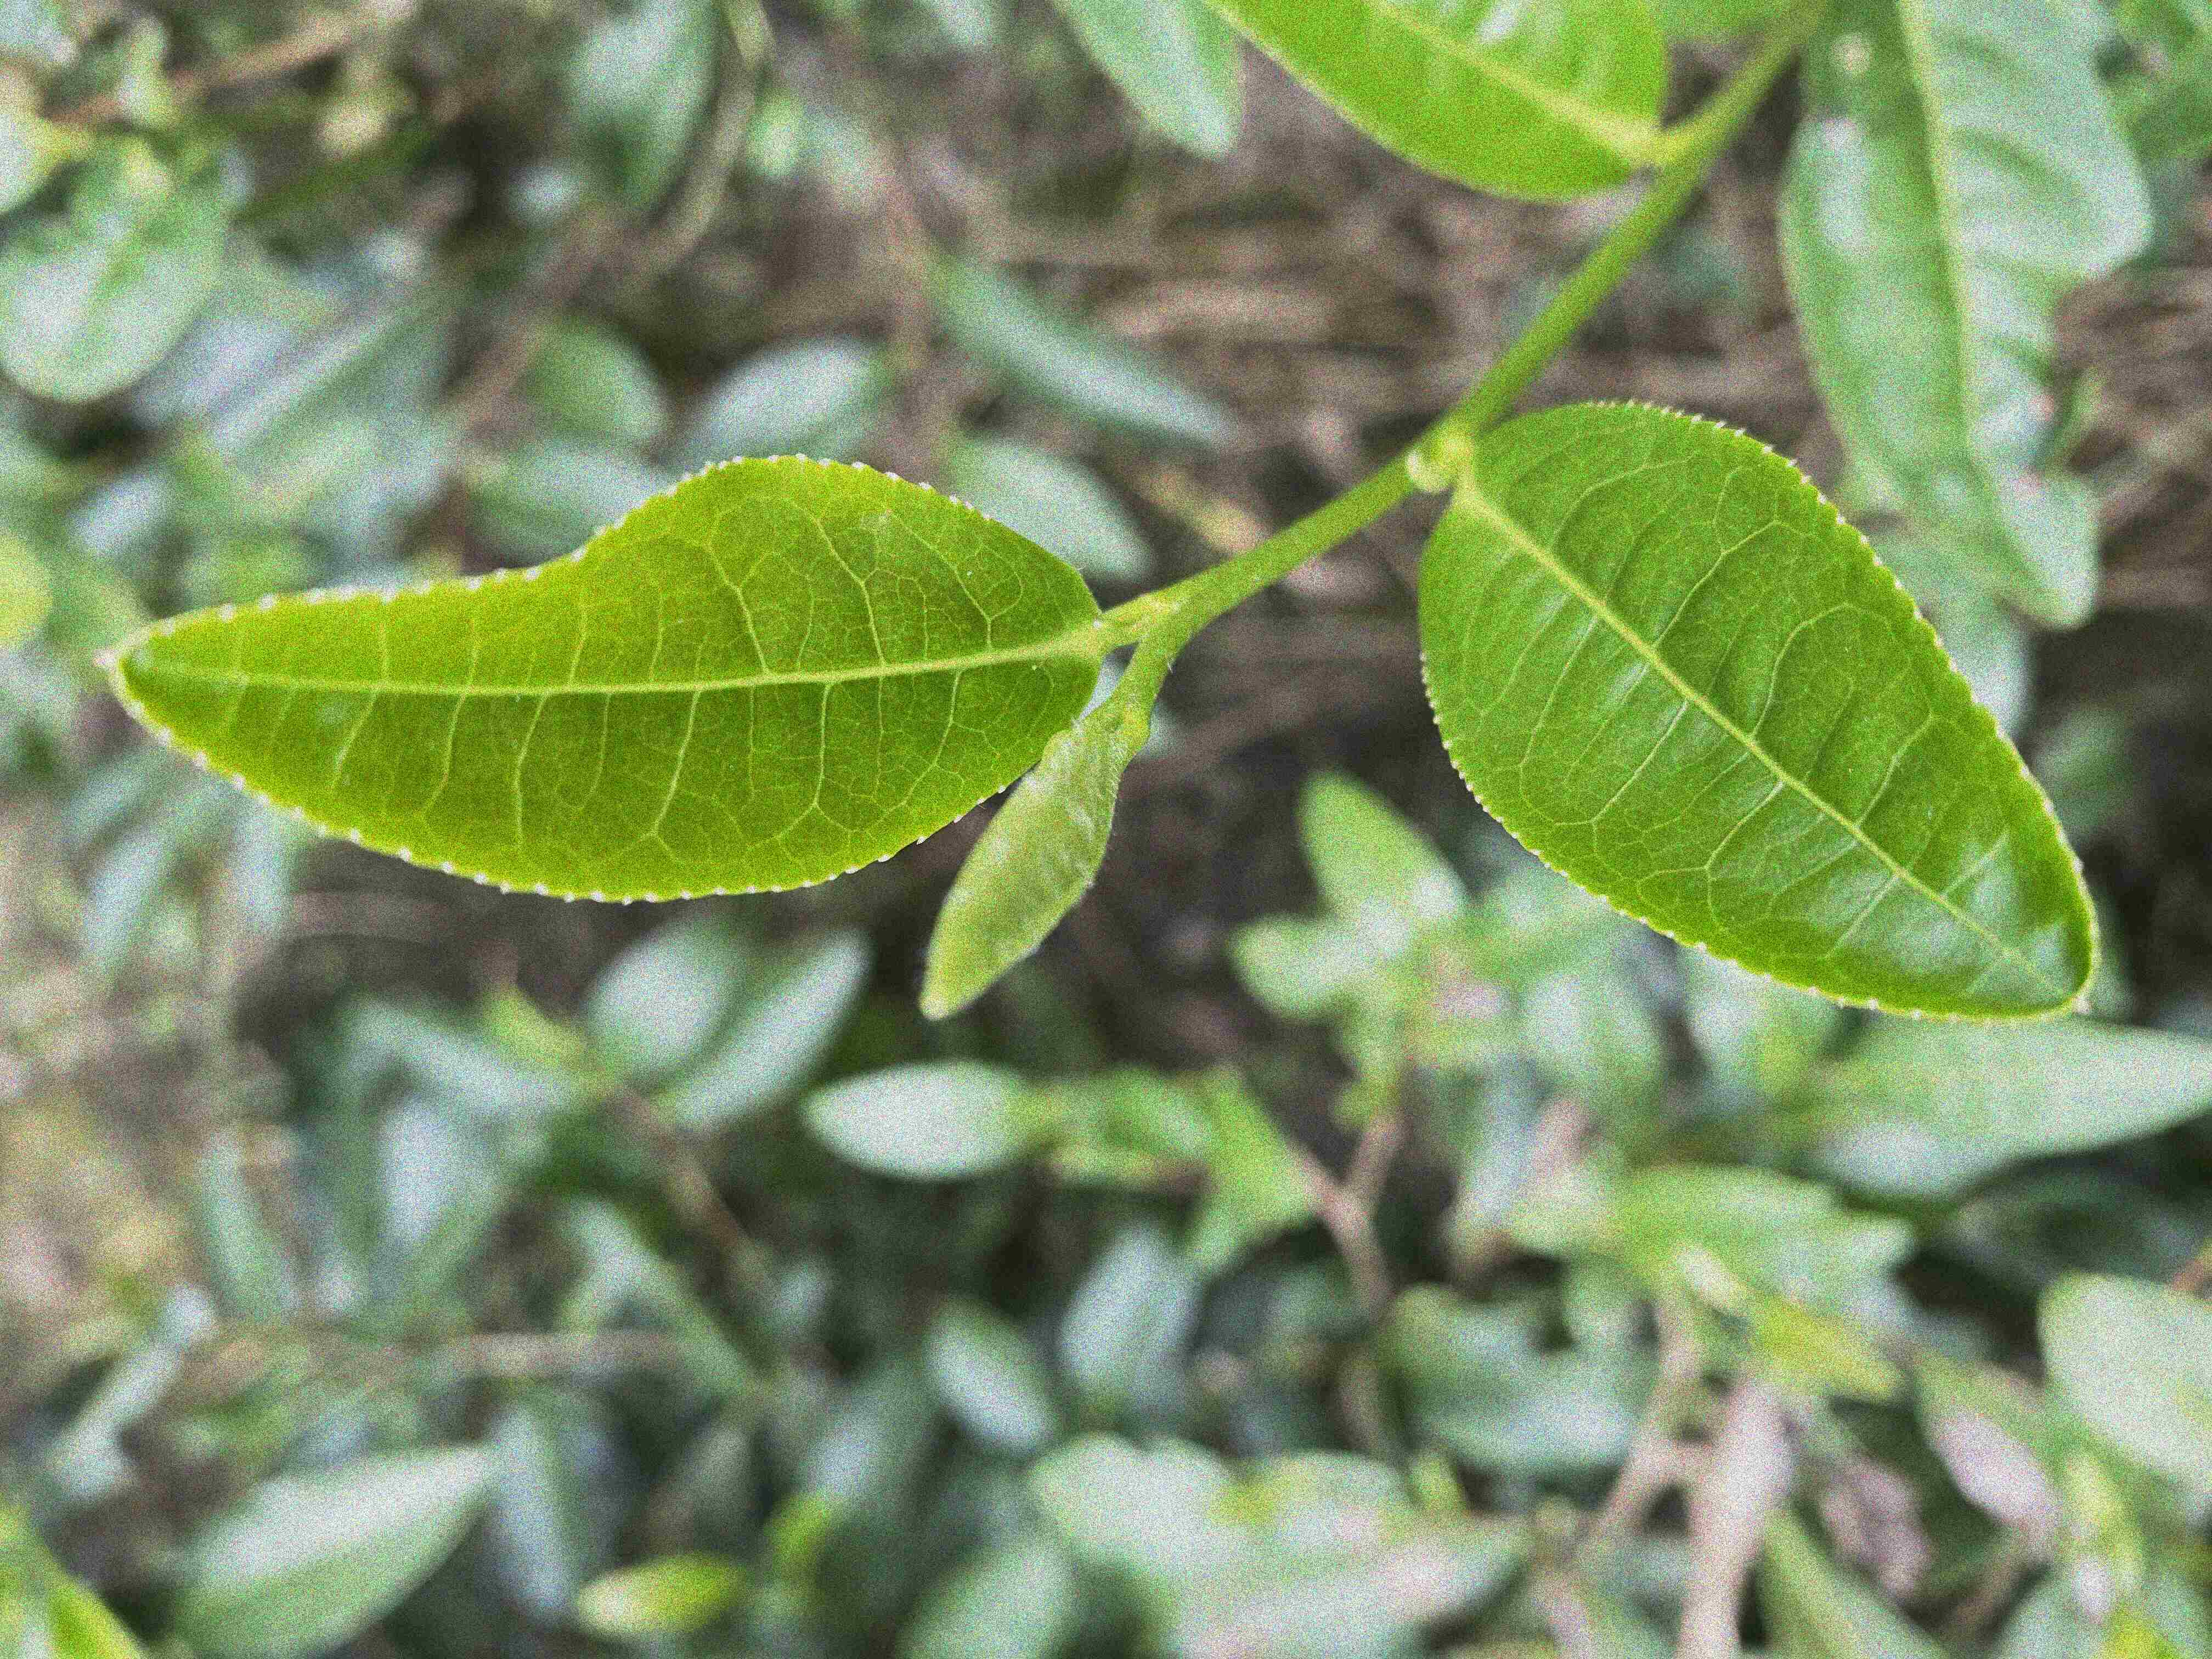healthy: (113, 453, 1101, 904), (1414, 392, 2095, 1026)
